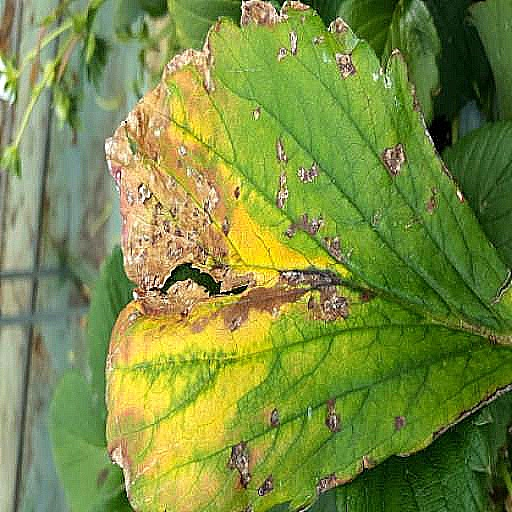Angular Leafspot: (103, 0, 511, 511)
